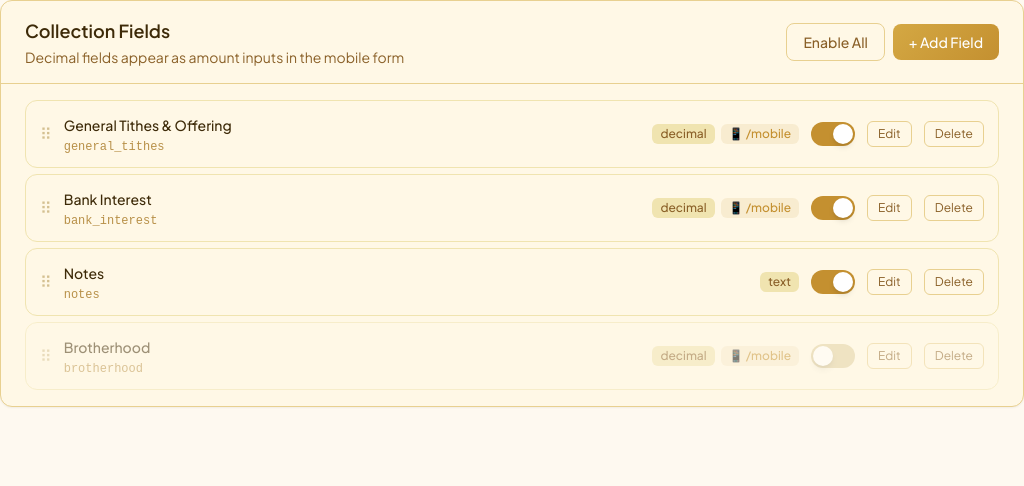
it: active toggle reverts on API error
The width and height of the screenshot is (1024, 486).
Check: the text "General Tithes & Offering" is shown, box x1=64 y1=116 x2=232 y2=134
Click the button named "Deactivate field" in the row of "General Tithes & Offering" at (833, 134), box x1=811 y1=122 x2=855 y2=146
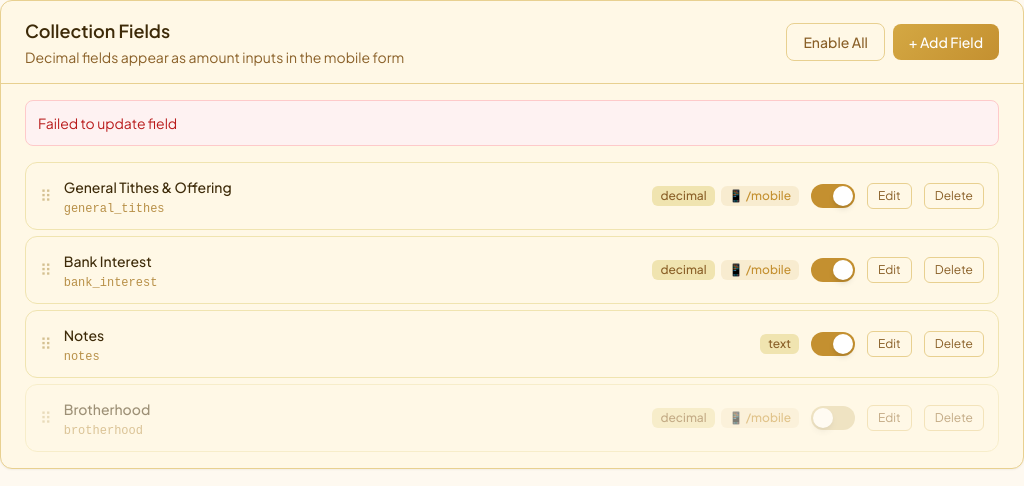
Check: the text "Failed to update field" is shown, box x1=25 y1=100 x2=999 y2=146
